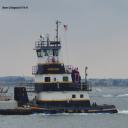tugboat: (14, 20, 120, 118)
